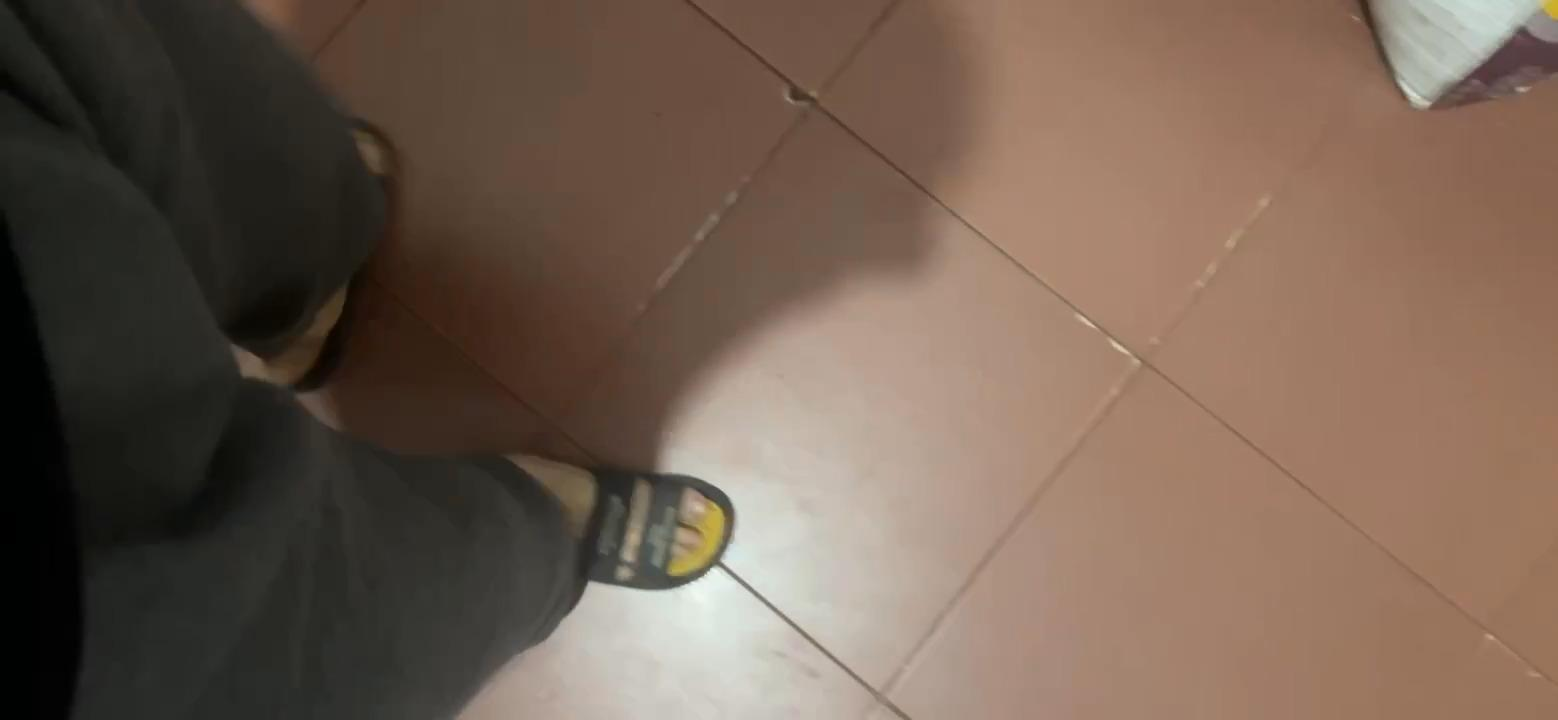no-boot: (519, 439, 731, 608)
